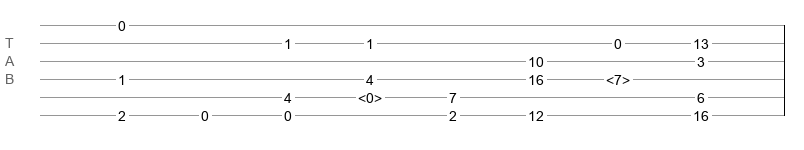0: (118, 18, 126, 28), (201, 108, 209, 118), (284, 108, 292, 118), (614, 36, 622, 46)
1: (118, 72, 126, 82), (284, 36, 292, 46), (366, 36, 374, 46)
10: (528, 54, 544, 64)
12: (528, 108, 544, 118)
13: (693, 36, 709, 46)
16: (528, 72, 544, 82), (693, 108, 709, 118)
2: (118, 108, 126, 118), (449, 108, 457, 118)
3: (697, 54, 705, 64)
4: (284, 90, 292, 100), (366, 72, 374, 82)
6: (697, 90, 705, 100)
7: (449, 90, 457, 100)
harmonic: (358, 90, 382, 100), (606, 72, 630, 82)
